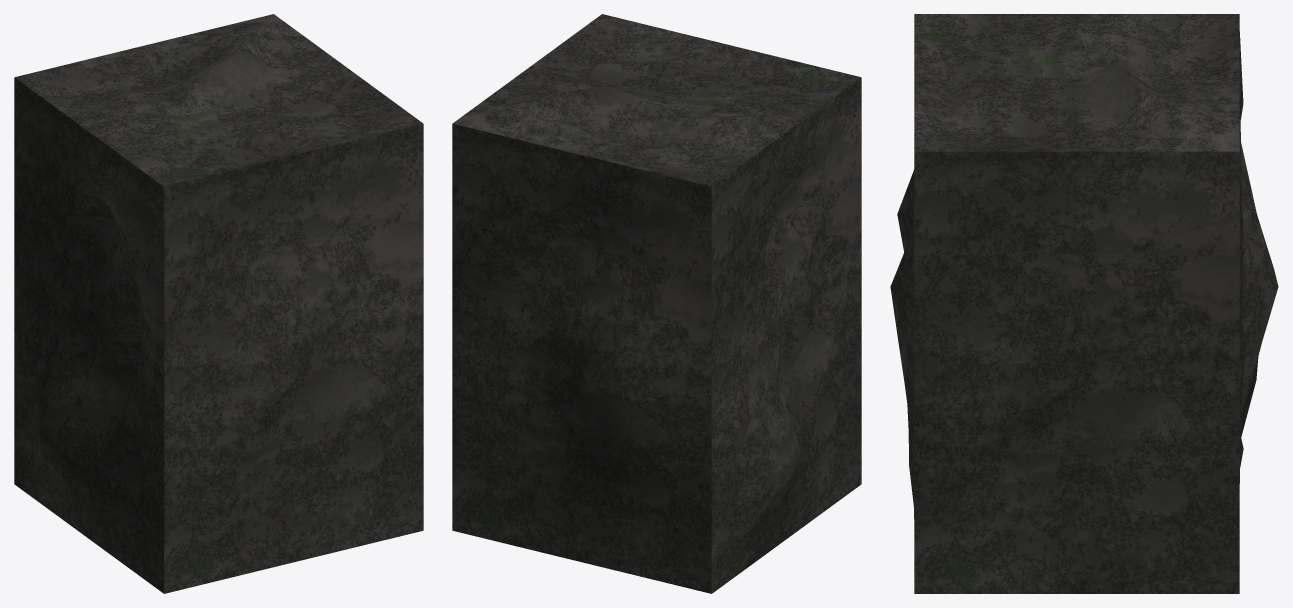
The model's file is SM_cv_wall_a.glb.
3 renders of one model, left to right at view 1: azimuth 30°, elevation 25°; view 2: azimuth 150°, elevation 25°; view 3: azimuth 270°, elevation 25°, orthographic. The views are drawn at different scales.
Visible parts, largest first — view 1: SM_cv_wall_a; view 2: SM_cv_wall_a; view 3: SM_cv_wall_a.
Boxes of the visible parts, x1=… form: SM_cv_wall_a: x1=14, y1=14, x2=423, y2=593; SM_cv_wall_a: x1=452, y1=14, x2=861, y2=593; SM_cv_wall_a: x1=890, y1=14, x2=1278, y2=593.
Bounding box in the file's own units: 4.64 × 6.3 × 4.77.
Materials: 1 (1 with a texture image).
